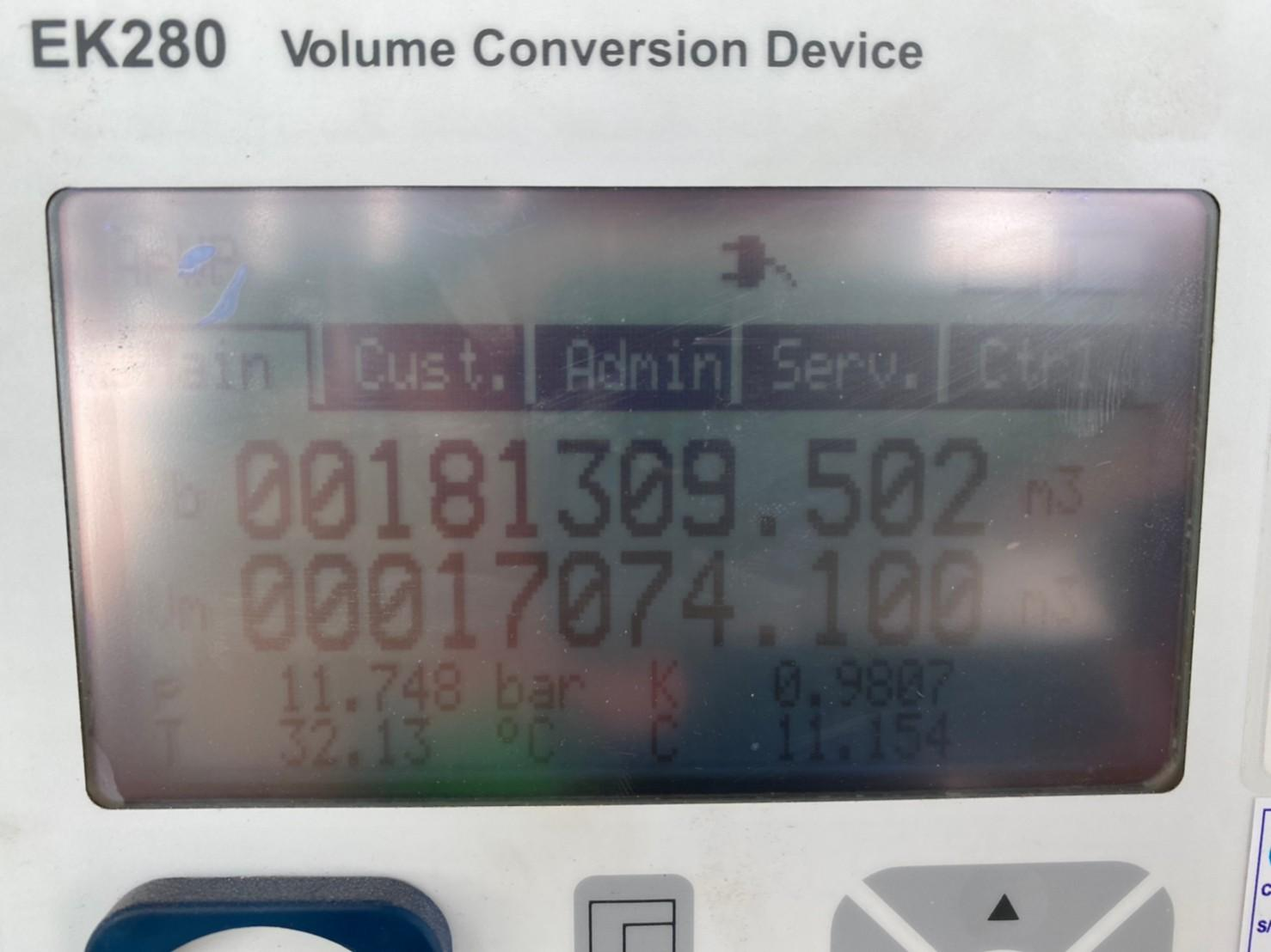digital_screen: (50, 195, 1215, 806)
